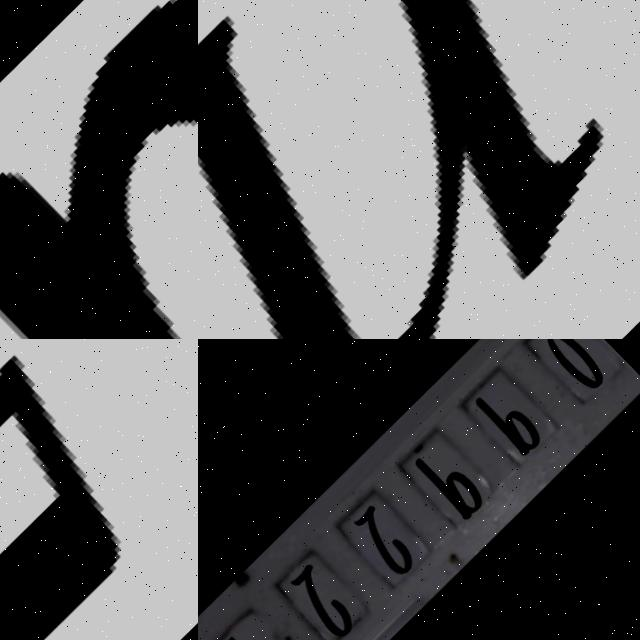0: (531, 339, 626, 413)
2: (342, 496, 437, 595), (280, 553, 377, 640)
5: (0, 339, 198, 640)
9: (406, 433, 505, 537), (465, 374, 561, 476), (218, 612, 313, 640)
A: (0, 0, 198, 339)
N: (198, 0, 640, 339)
